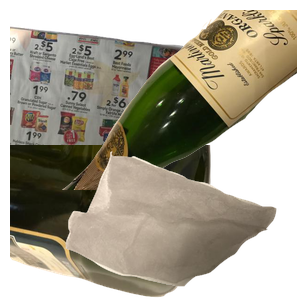glass: (60, 10, 300, 190)
paper: (10, 21, 222, 201)
plastic: (10, 145, 213, 300)
trash: (63, 149, 300, 300)
